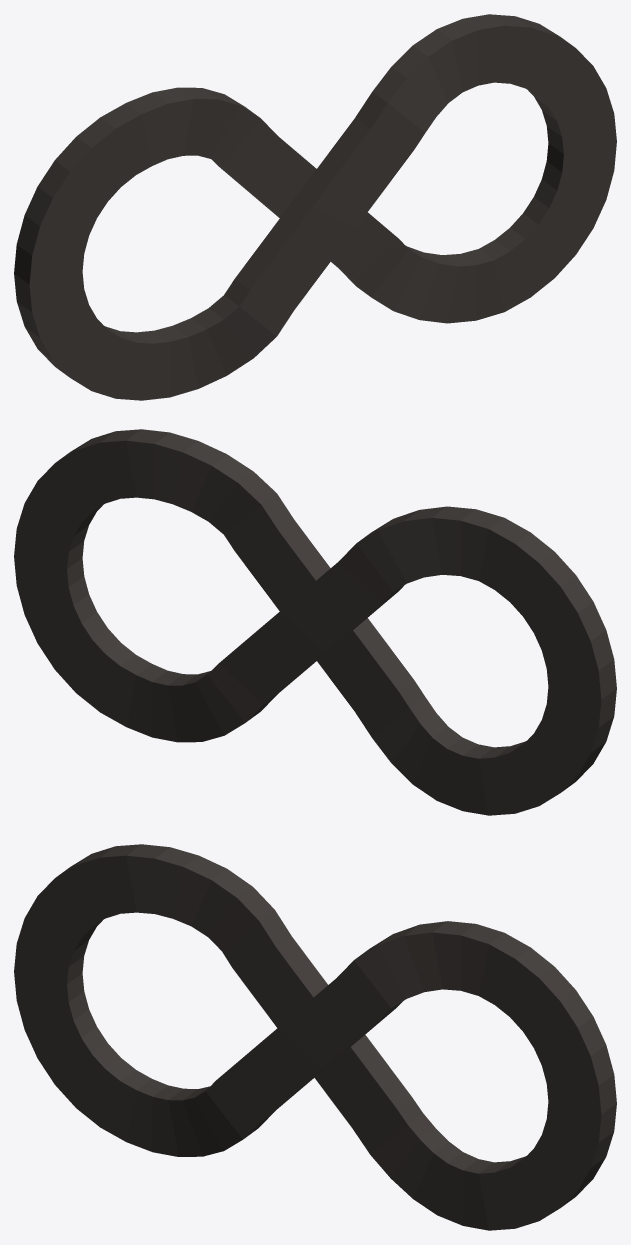
The model's file is Infinity.fbx.
3 renders of one model, top to bottom at view 1: azimuth 30°, elevation 25°; view 2: azimuth 150°, elevation 25°; view 3: azimuth 330°, elevation 25°, orthographic.
Visible parts, largest first — view 1: Infinity; view 2: Infinity; view 3: Infinity.
Boxes of the visible parts, x1,y1,x2,y2 form: Infinity: (14,14,616,400); Infinity: (14,429,616,815); Infinity: (14,844,616,1230).
Bounding box in the file's own units: 421 × 200 × 39.44.
